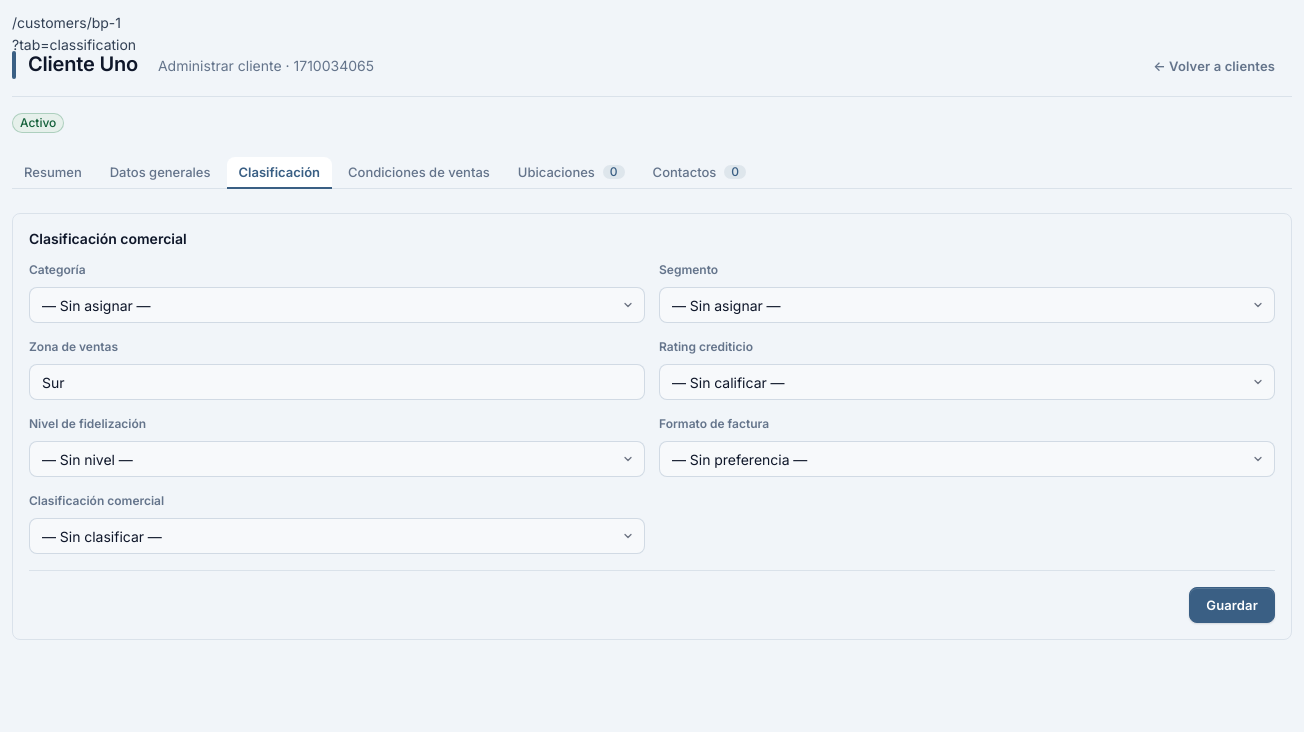
Test case: ficha de cliente — pestañas Clasificación y Condiciones de ventas › con update pero sin configure-company la clasificación se edita y la condición de ventas queda en solo lectura
This screenshot has width=1304, height=732.
Expected: the button "Guardar" is shown, [1189, 587, 1275, 623]
Click the tab "Condiciones de ventas".
click(419, 173)  # box [336, 157, 502, 189]
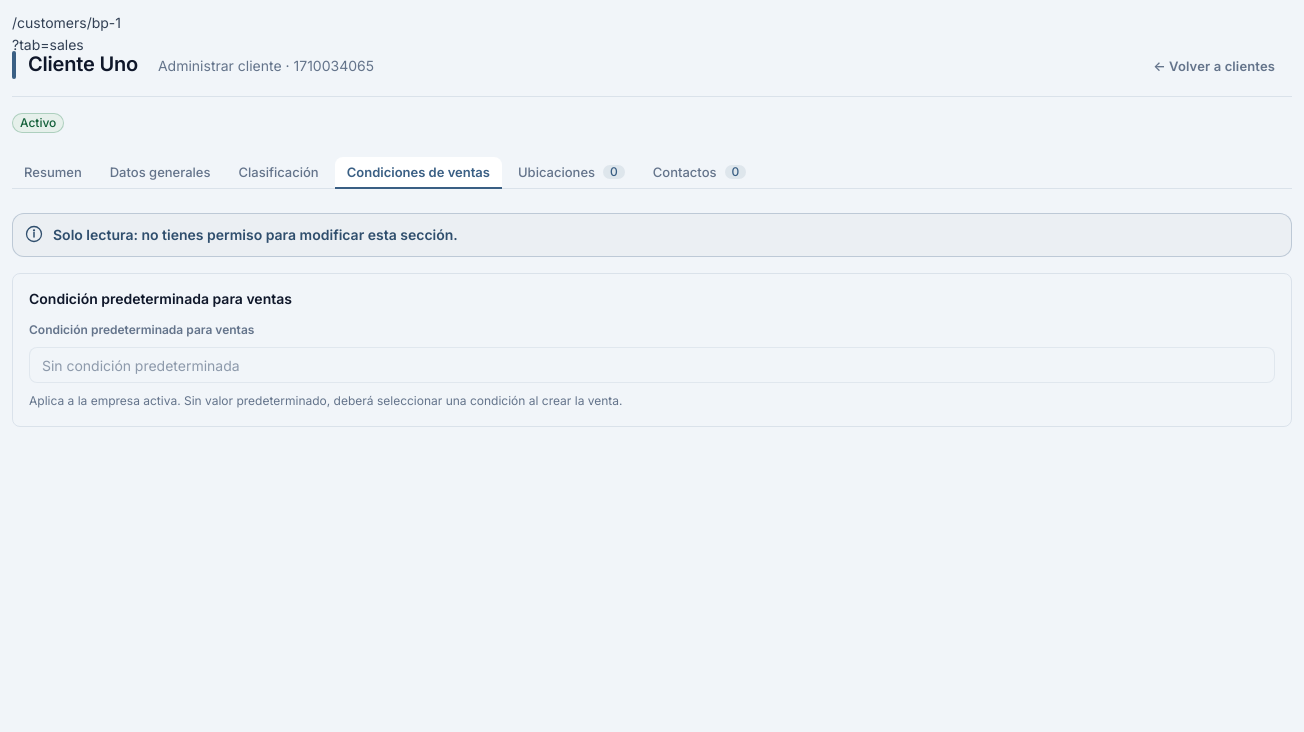
Expected: the dropdown labelled "Condición predeterminada para ventas" is disabled, [29, 347, 1275, 383]
Expected: the button "Guardar" is gone
